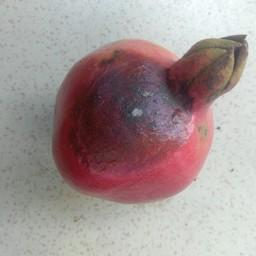Bad_pomegranate: (50, 18, 249, 210)
